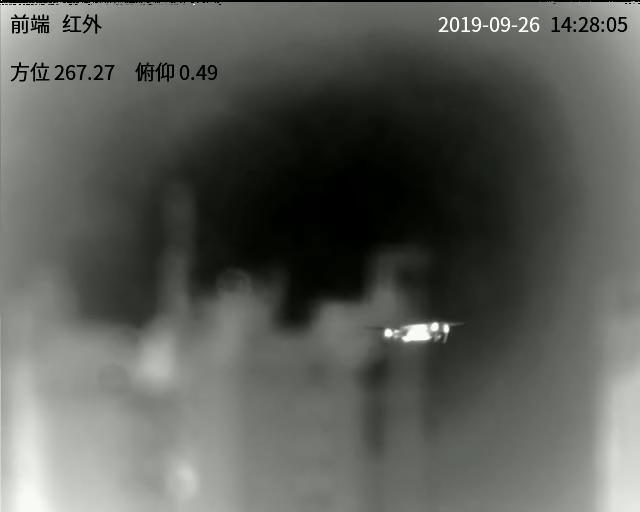uav: (365, 316, 449, 349)
